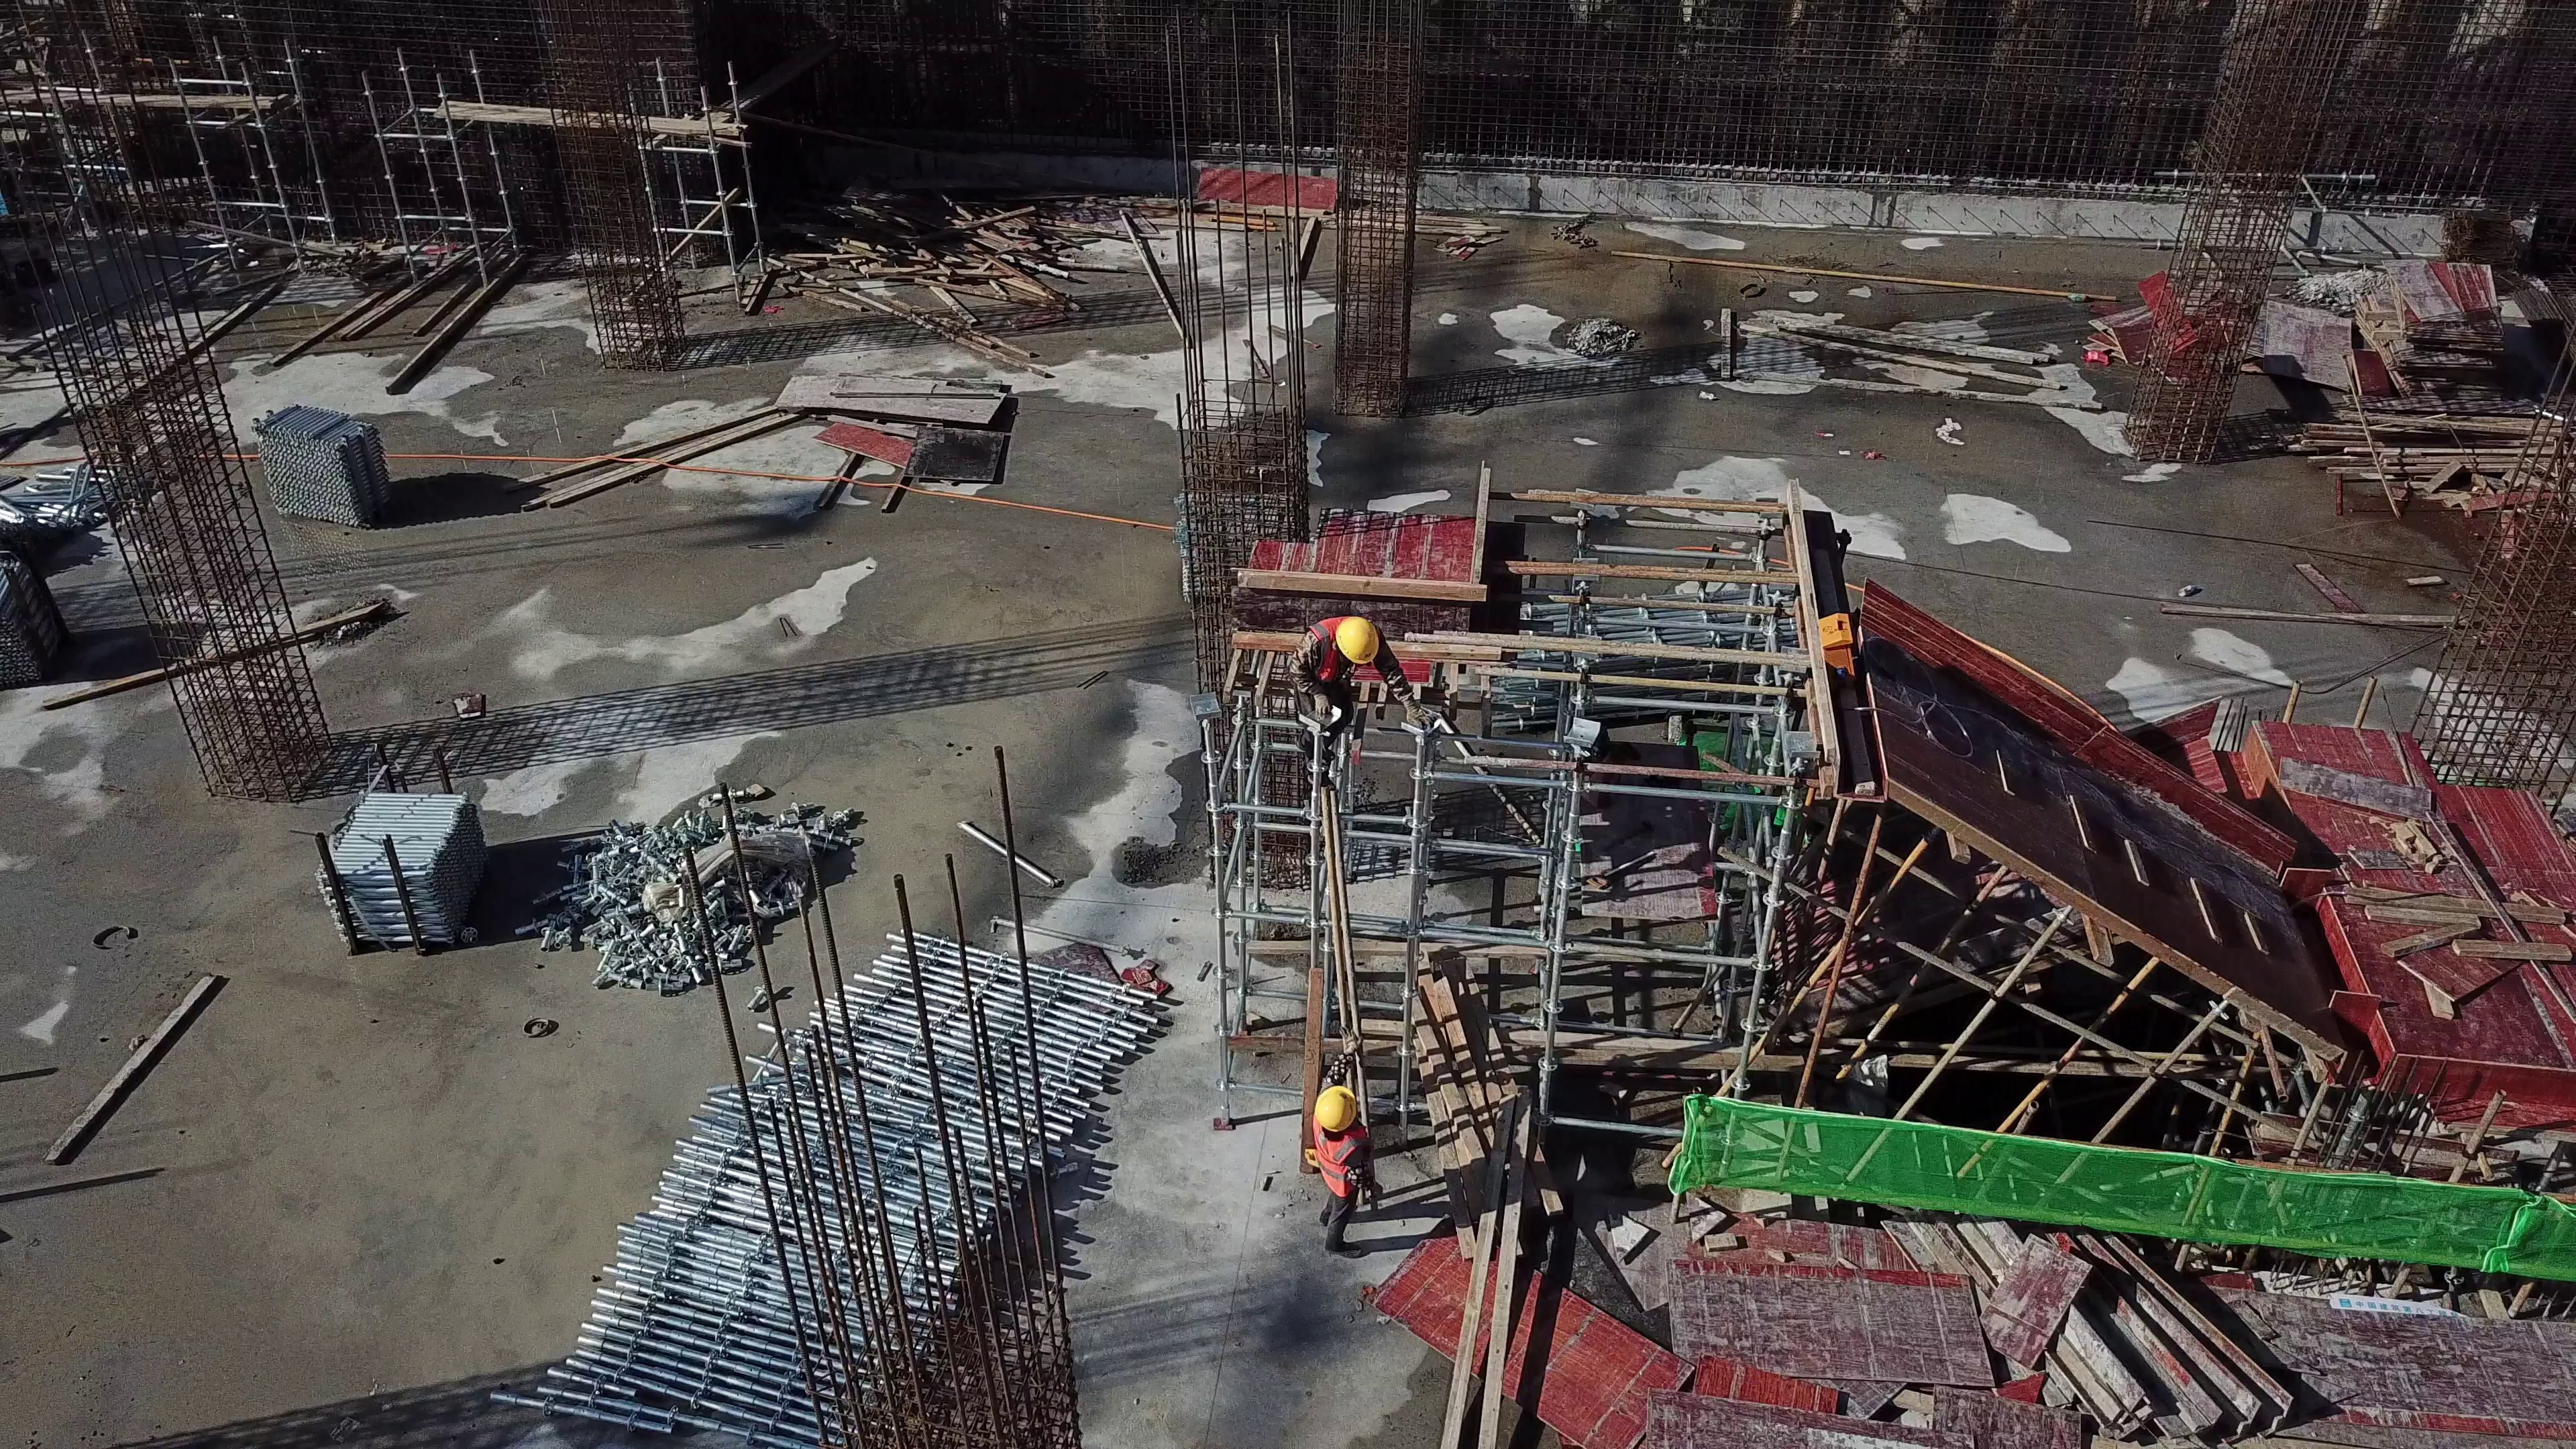board: (2356, 248, 2518, 396)
helmet: (1330, 610, 1381, 668), (1316, 1084, 1361, 1138)
person: (1281, 600, 1432, 795), (1297, 1028, 1404, 1265)
scaffold: (549, 935, 1171, 1434), (336, 777, 496, 952)
vest: (1309, 1128, 1368, 1195), (1301, 607, 1340, 686)
